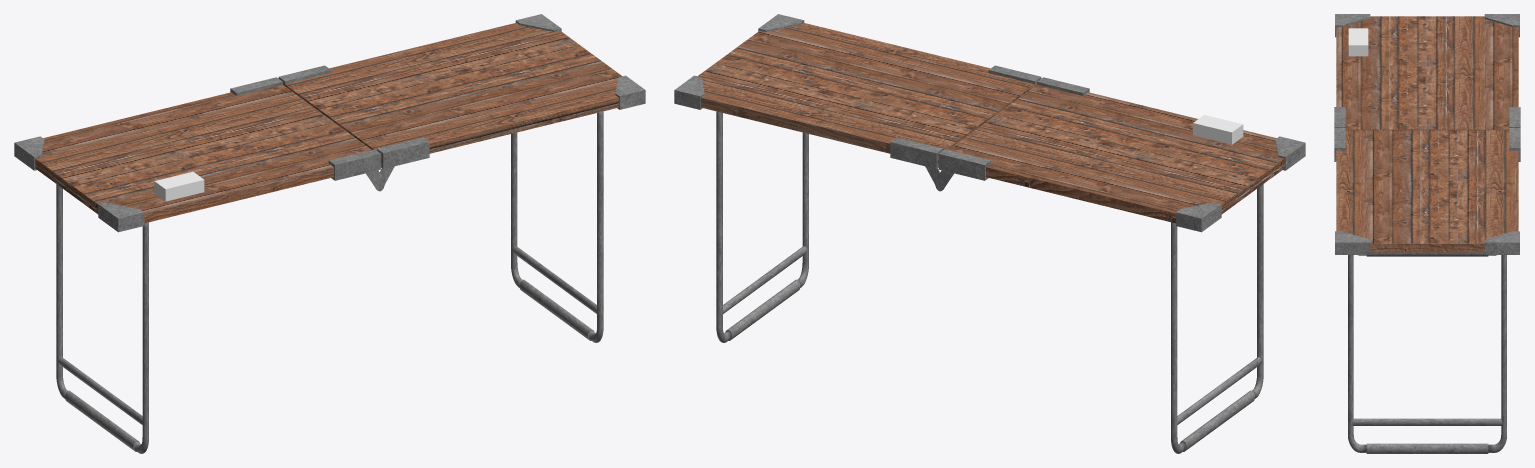
The model's file is table.gltf.
3 renders of one model, left to right at view 1: azimuth 30°, elevation 25°; view 2: azimuth 150°, elevation 25°; view 3: azimuth 270°, elevation 25°, orthographic. The views are drawn at different scales.
Visible parts, largest first — view 1: Table, Button; view 2: Table, Button; view 3: Table, Button.
Part boxes in pixels (x1=…): Table: x1=14, y1=14, x2=645, y2=453; Button: x1=154, y1=171, x2=204, y2=201; Table: x1=674, y1=14, x2=1305, y2=453; Button: x1=1193, y1=115, x2=1243, y2=144; Table: x1=1334, y1=14, x2=1520, y2=453; Button: x1=1348, y1=28, x2=1368, y2=56.
Size of the model in its own units: 1.98 by 0.954 by 0.6813.
2 materials, 1 textured.
